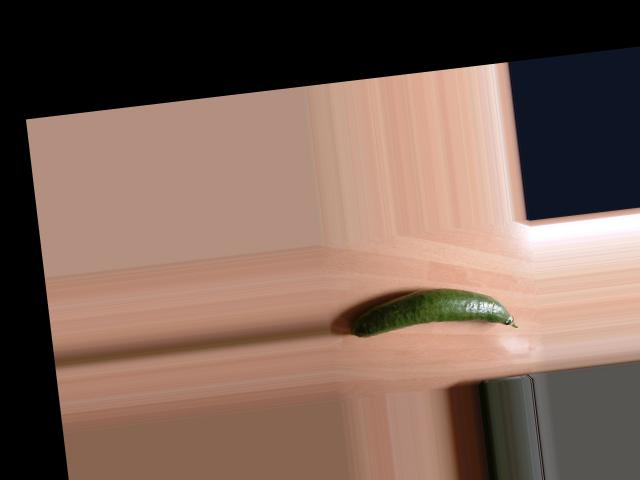cucumber: (344, 278, 519, 347)
